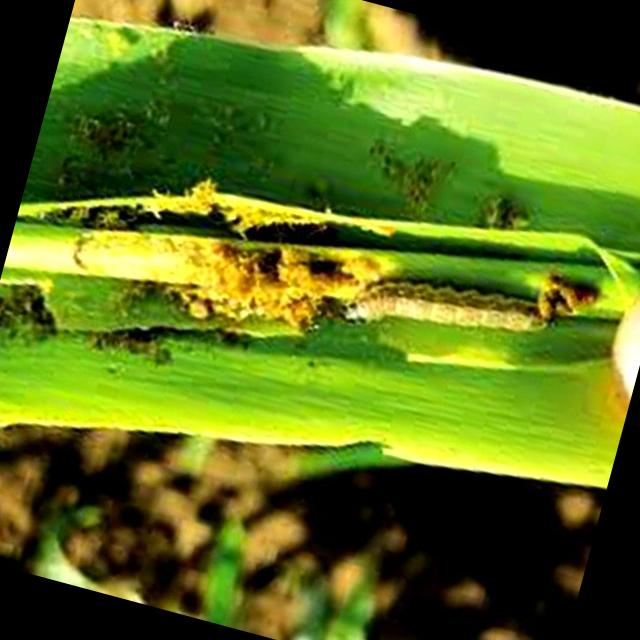pest: (330, 249, 567, 369)
